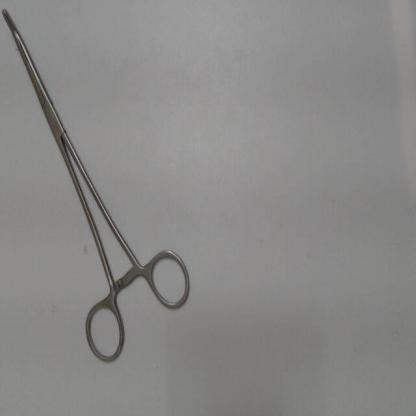Lahey Forceps: (1, 5, 197, 368)
